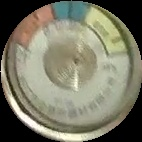green: (52, 1, 91, 24)
red: (15, 6, 56, 49)
yellow: (85, 8, 134, 55)
